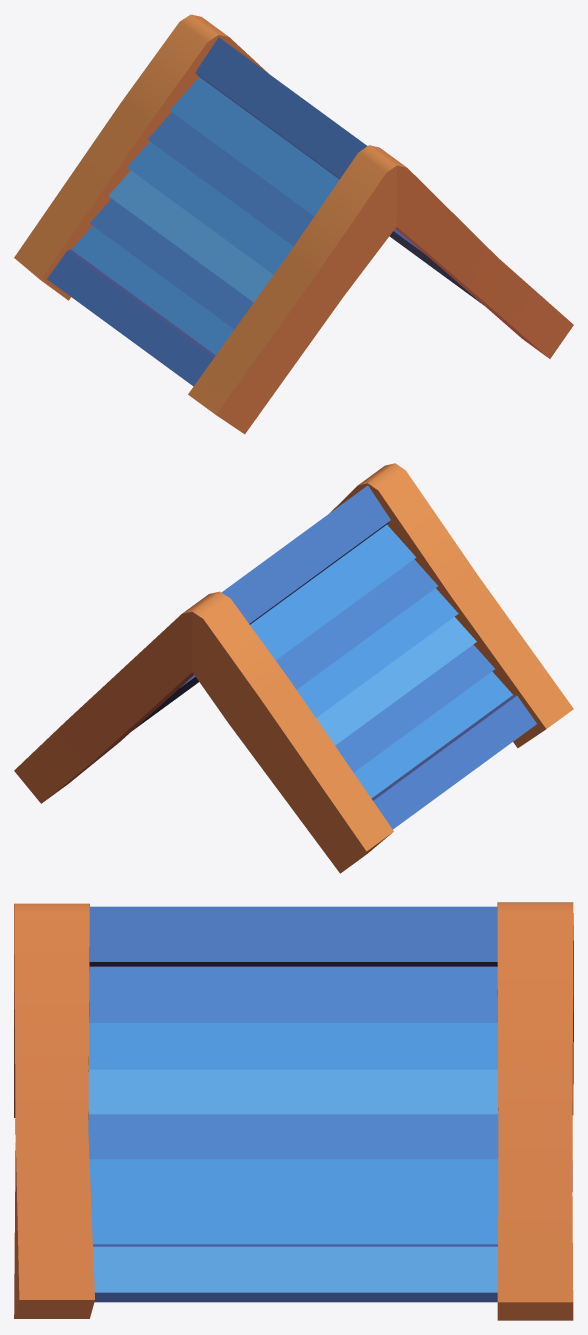
File: Roof03_Blue_Wood.glb
The picture shows the model from 3 angles, top to bottom: view 1: azimuth 30°, elevation 25°; view 2: azimuth 150°, elevation 25°; view 3: azimuth 270°, elevation 25°; orthographic projection. The views are drawn at different scales.
Visible parts, largest first — view 1: Roof03_Blue_Wood.003; view 2: Roof03_Blue_Wood.003; view 3: Roof03_Blue_Wood.003.
Boxes of the visible parts, box(x1,y1,x2,y2) form: Roof03_Blue_Wood.003: box(14, 14, 573, 434); Roof03_Blue_Wood.003: box(14, 463, 573, 873); Roof03_Blue_Wood.003: box(14, 902, 573, 1320).
Size of the model in its own units: 2.41 by 1.48 by 2.38.
1 material, 1 textured.
